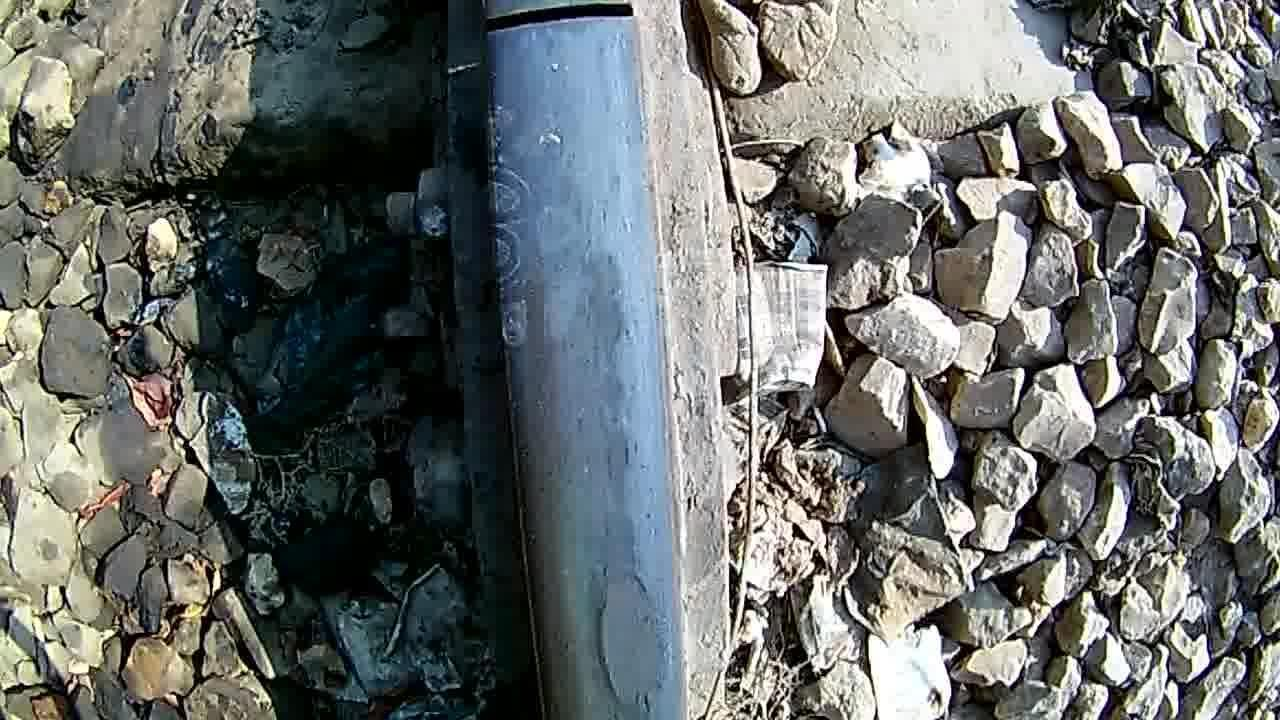crack: (522, 122, 680, 474), (504, 471, 701, 720)
